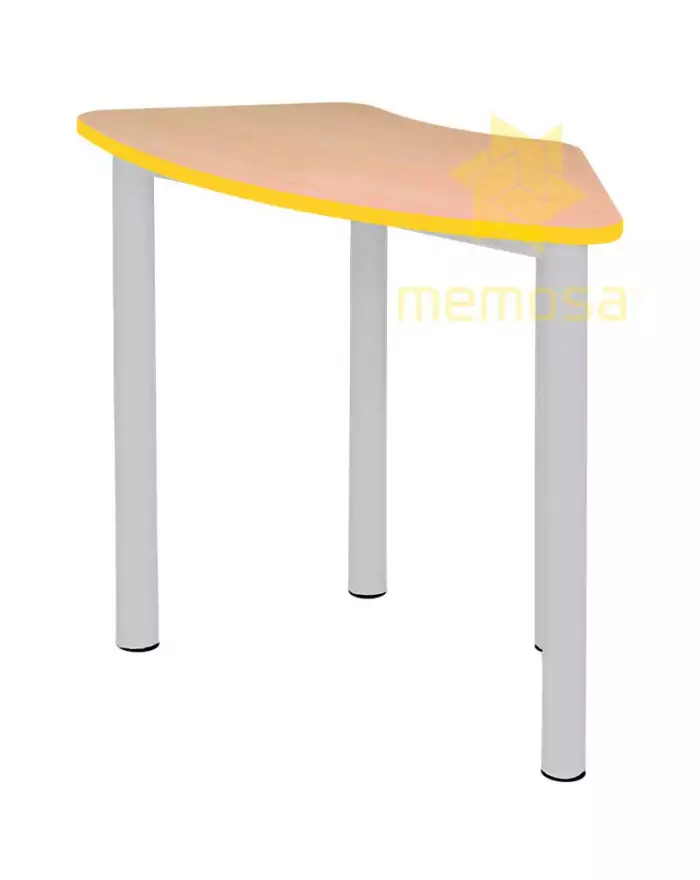m01: (75, 102, 625, 787)
